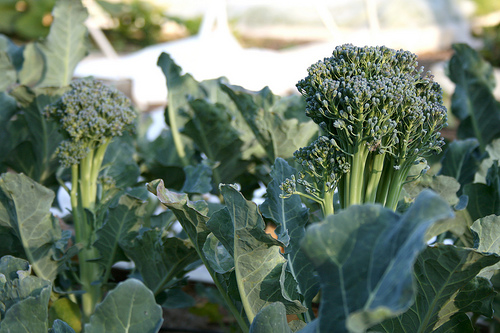broccoli: (277, 42, 450, 219), (39, 74, 137, 314)
